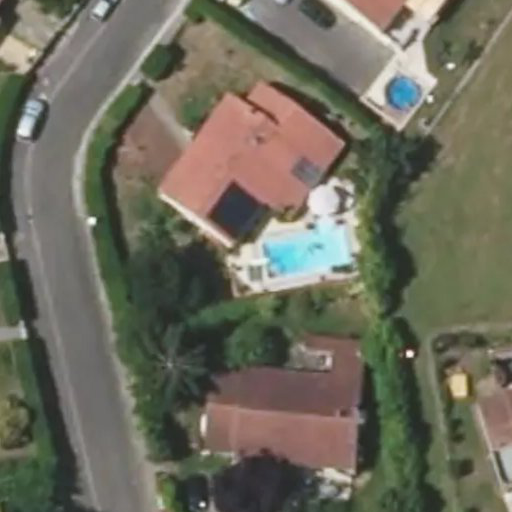pool: (206, 225, 303, 256)
